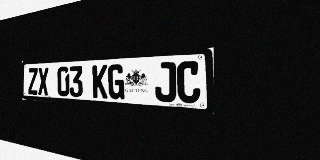0: (57, 66, 69, 97)
3: (70, 66, 83, 97)
C: (177, 61, 200, 104)
G: (108, 64, 124, 100)
J: (155, 62, 176, 102)
K: (92, 65, 107, 99)
X: (38, 67, 48, 95)
Z: (28, 68, 38, 95)
